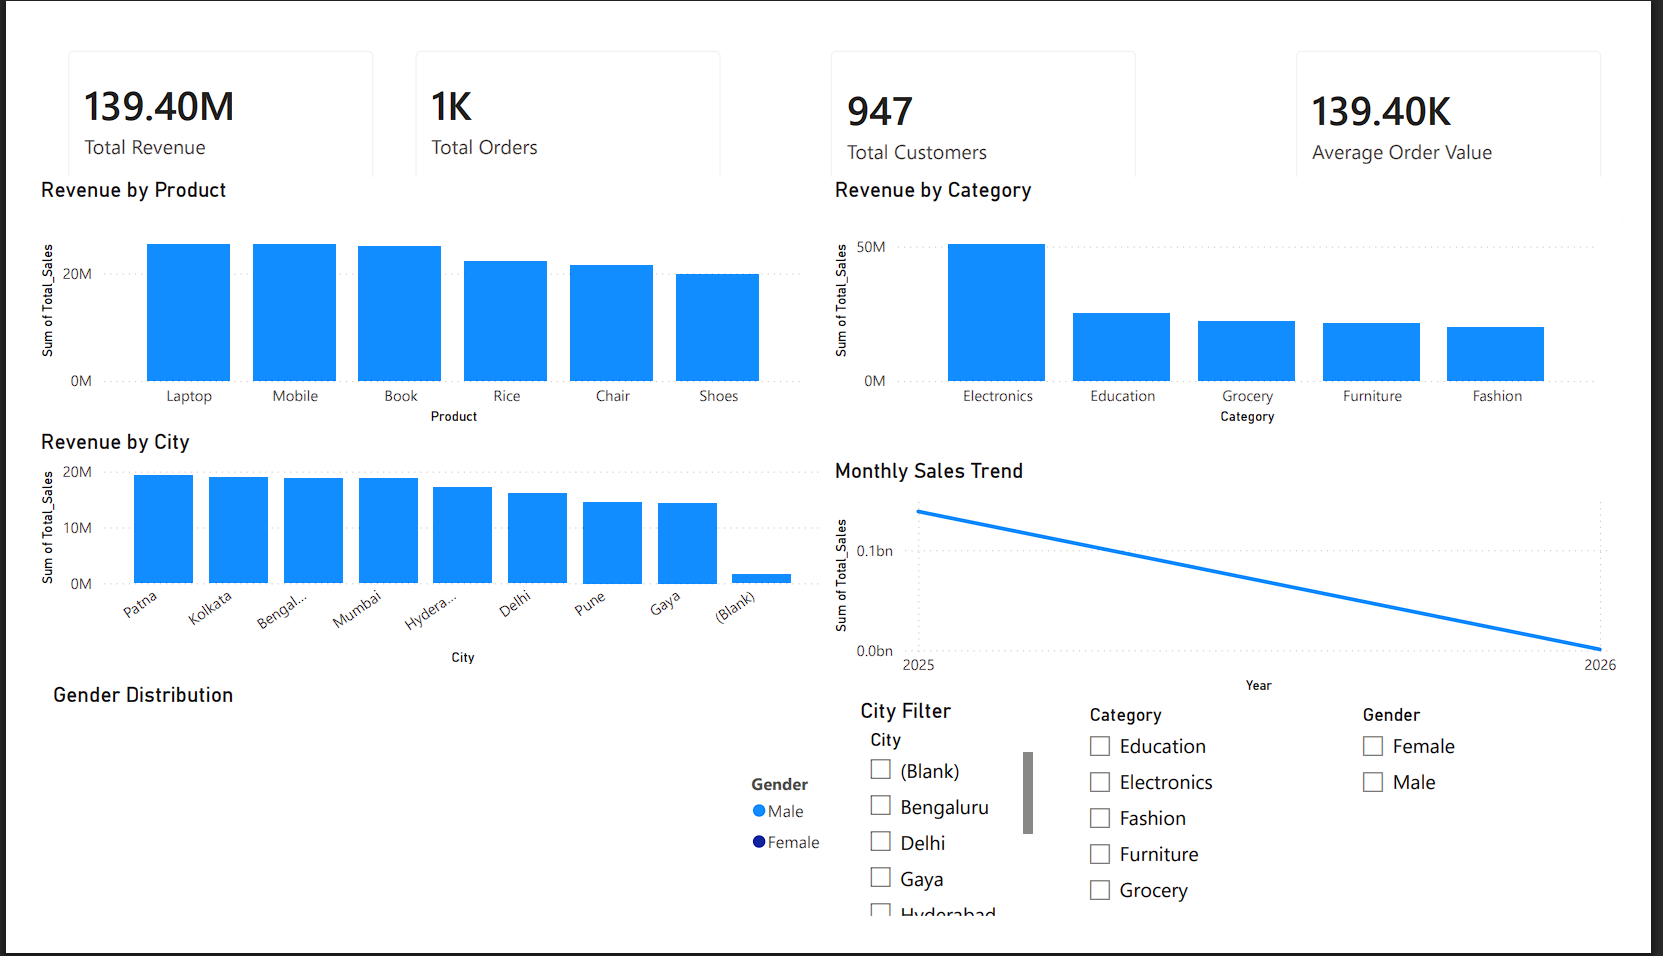

The page's visual inventory and layout, read from the dashboard file:
{"tool":"powerbi","page":{"name":"Page 1","canvas":[1280,720],"ordinal":0},"visuals":[{"type":"cardVisual","fields":{"Data":["Sheet1.Total Revenue"]},"box":[9.8,0,280,140],"z":0},{"type":"cardVisual","fields":{"Data":["Sheet1.Total Orders"]},"box":[289.8,0,280,140],"z":1000},{"type":"cardVisual","fields":{"Data":["Sheet1.Total Customers"]},"box":[625.2,0,280,149.8],"z":2000},{"type":"cardVisual","fields":{"Data":["Sheet1.Average Order Value"]},"box":[999.7,0,280,149.8],"z":3000},{"type":"clusteredColumnChart","title":"Revenue by Product","fields":{"Category":["Sheet1.Product"],"Y":["Sum(Sheet1.Total_Sales)"]},"box":[0,118.9,625.2,203.5],"z":4000},{"type":"clusteredColumnChart","title":"Revenue by Category","fields":{"Category":["Sheet1.Category"],"Y":["Sum(Sheet1.Total_Sales)"]},"box":[639.9,118.9,625.2,203.5],"z":5000},{"type":"clusteredColumnChart","title":"Revenue by City","fields":{"Category":["Sheet1.City"],"Y":["Sum(Sheet1.Total_Sales)"]},"box":[0,322.4,639.9,193.7],"z":6000},{"type":"lineChart","title":"Monthly Sales Trend","fields":{"Category":["Sheet1.Order_Date.Variation.Date Hierarchy.Year","Sheet1.Order_Date.Variation.Date Hierarchy.Quarter","Sheet1.Order_Date.Variation.Date Hierarchy.Month","Sheet1.Order_Date.Variation.Date Hierarchy.Day"],"Y":["Sum(Sheet1.Total_Sales)"]},"box":[639.9,345.2,639.9,193.7],"z":7000},{"type":"donutChart","title":"Gender  Distribution","fields":{"Category":["Sheet1.Gender"],"Series":["Sheet1.Customer_ID"]},"box":[9.8,526.2,639.3,193.4],"z":8000},{"type":"slicer","title":"City Filter","fields":{"Values":["Sheet1.City"]},"box":[660.7,539.3,149.2,180.3],"z":9000},{"type":"slicer","fields":{"Values":["Sheet1.Category"]},"box":[838.5,538.9,192.1,180.7],"z":10000},{"type":"slicer","fields":{"Values":["Sheet1.Gender"]},"box":[1058.3,538.9,221.4,180.7],"z":11000}]}

Visuals, with their boxes in screenshot pixels (x1, y1, x2, y2), scaled from the page's 1280x720 canvas onto the 1663x956 screenshot:
cardVisual - Sheet1.Total Revenue: (x1=13, y1=0, x2=377, y2=186)
cardVisual - Sheet1.Total Orders: (x1=377, y1=0, x2=740, y2=186)
cardVisual - Sheet1.Total Customers: (x1=812, y1=0, x2=1176, y2=199)
cardVisual - Sheet1.Average Order Value: (x1=1299, y1=0, x2=1662, y2=199)
"Revenue by Product" clusteredColumnChart: (x1=0, y1=158, x2=812, y2=428)
"Revenue by Category" clusteredColumnChart: (x1=831, y1=158, x2=1644, y2=428)
"Revenue by City" clusteredColumnChart: (x1=0, y1=428, x2=831, y2=685)
"Monthly Sales Trend" lineChart: (x1=831, y1=458, x2=1662, y2=716)
"Gender  Distribution" donutChart: (x1=13, y1=699, x2=843, y2=955)
"City Filter" slicer: (x1=858, y1=716, x2=1052, y2=955)
slicer - Sheet1.Category: (x1=1089, y1=716, x2=1339, y2=955)
slicer - Sheet1.Gender: (x1=1375, y1=716, x2=1662, y2=955)
